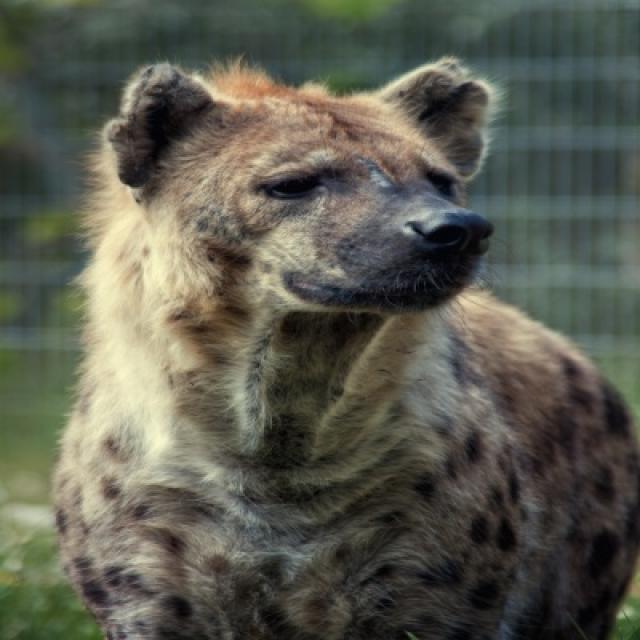hyena: (50, 56, 638, 638)
